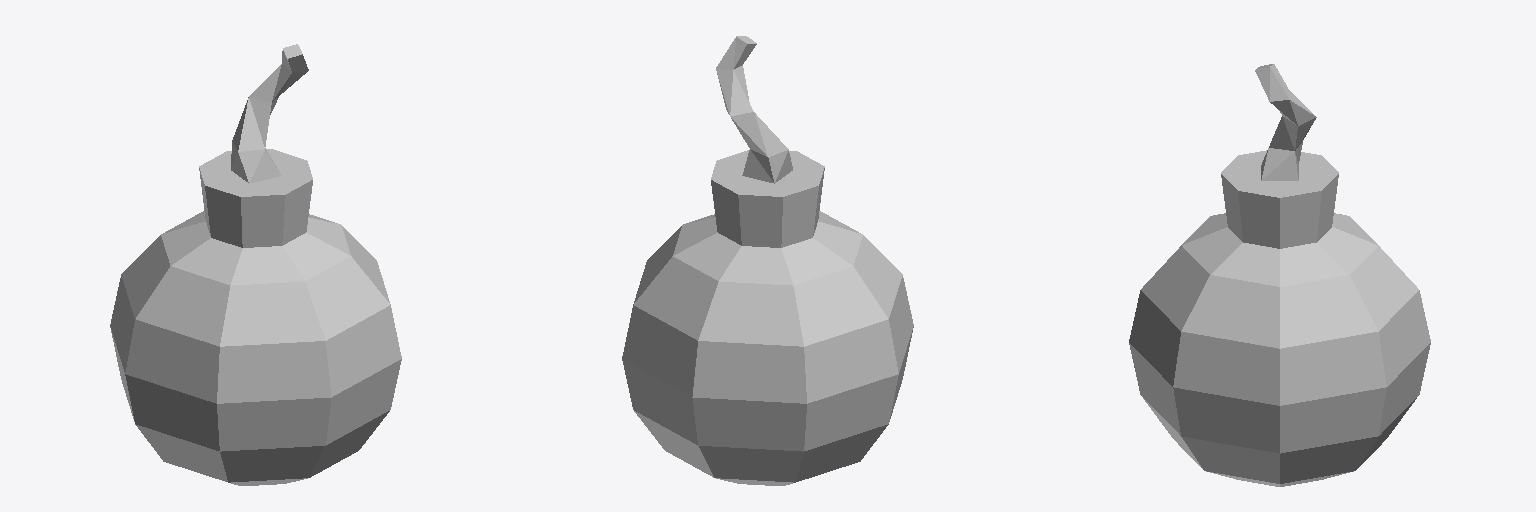
The model's file is BombUp.obj.
3 views of the same model, side by side, from view 1: azimuth 30°, elevation 25°; view 2: azimuth 150°, elevation 25°; view 3: azimuth 270°, elevation 25° (orthographic).
Visible parts, largest first — view 1: SM_Item_Bomb_01_Mesh; view 2: SM_Item_Bomb_01_Mesh; view 3: SM_Item_Bomb_01_Mesh.
Boxes of the visible parts, x1=… form: SM_Item_Bomb_01_Mesh: x1=110, y1=44, x2=401, y2=485; SM_Item_Bomb_01_Mesh: x1=622, y1=36, x2=913, y2=485; SM_Item_Bomb_01_Mesh: x1=1129, y1=64, x2=1430, y2=486.
Bounding box in the file's own units: 1.25 × 1.89 × 1.25.